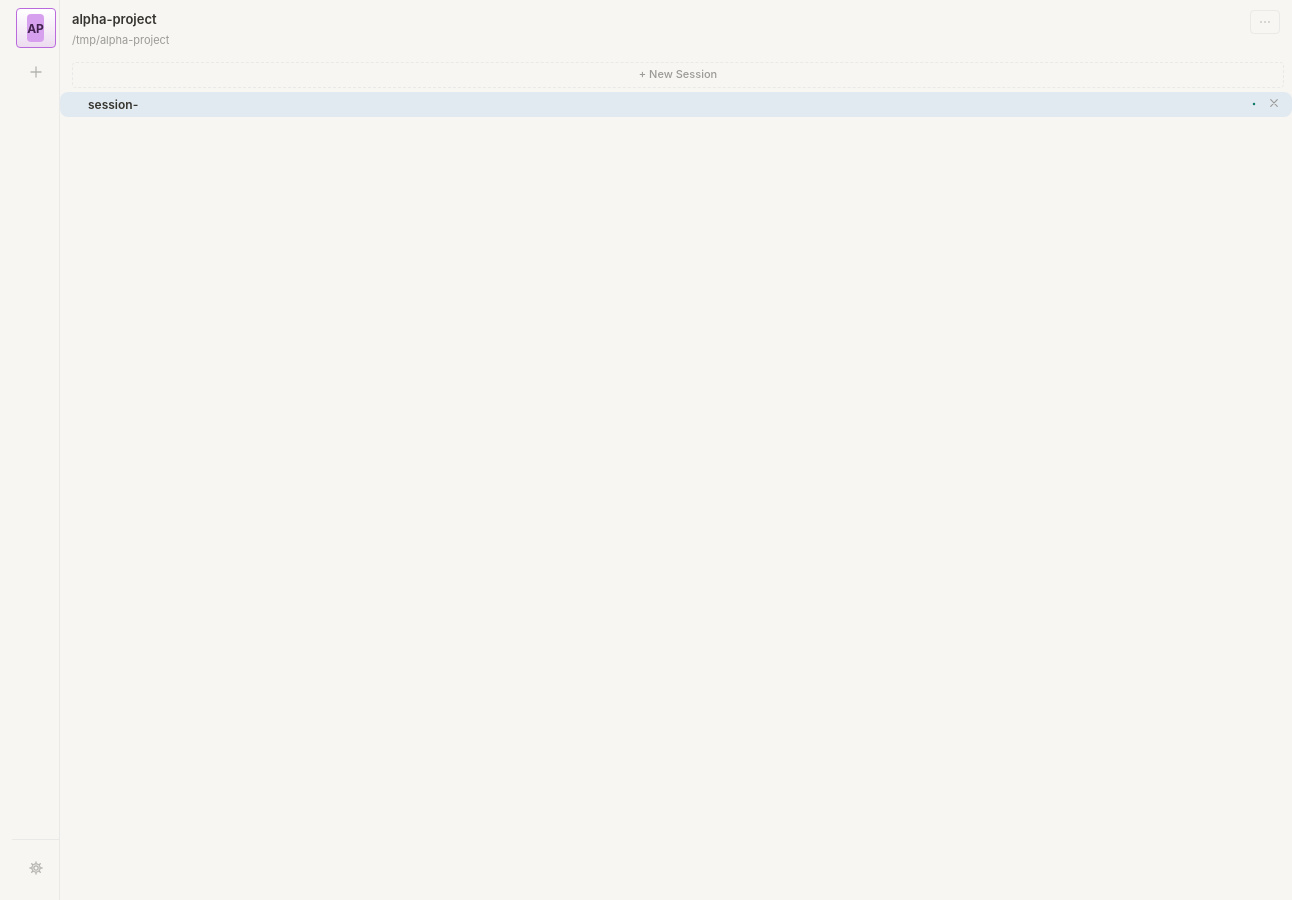
Scenario: IdeLeftPanel › enables workspace through the backend API and closes the menu after selection
Click the button with test id "project-menu-trigger": click(1265, 22) left=1250, top=10, right=1280, bottom=34
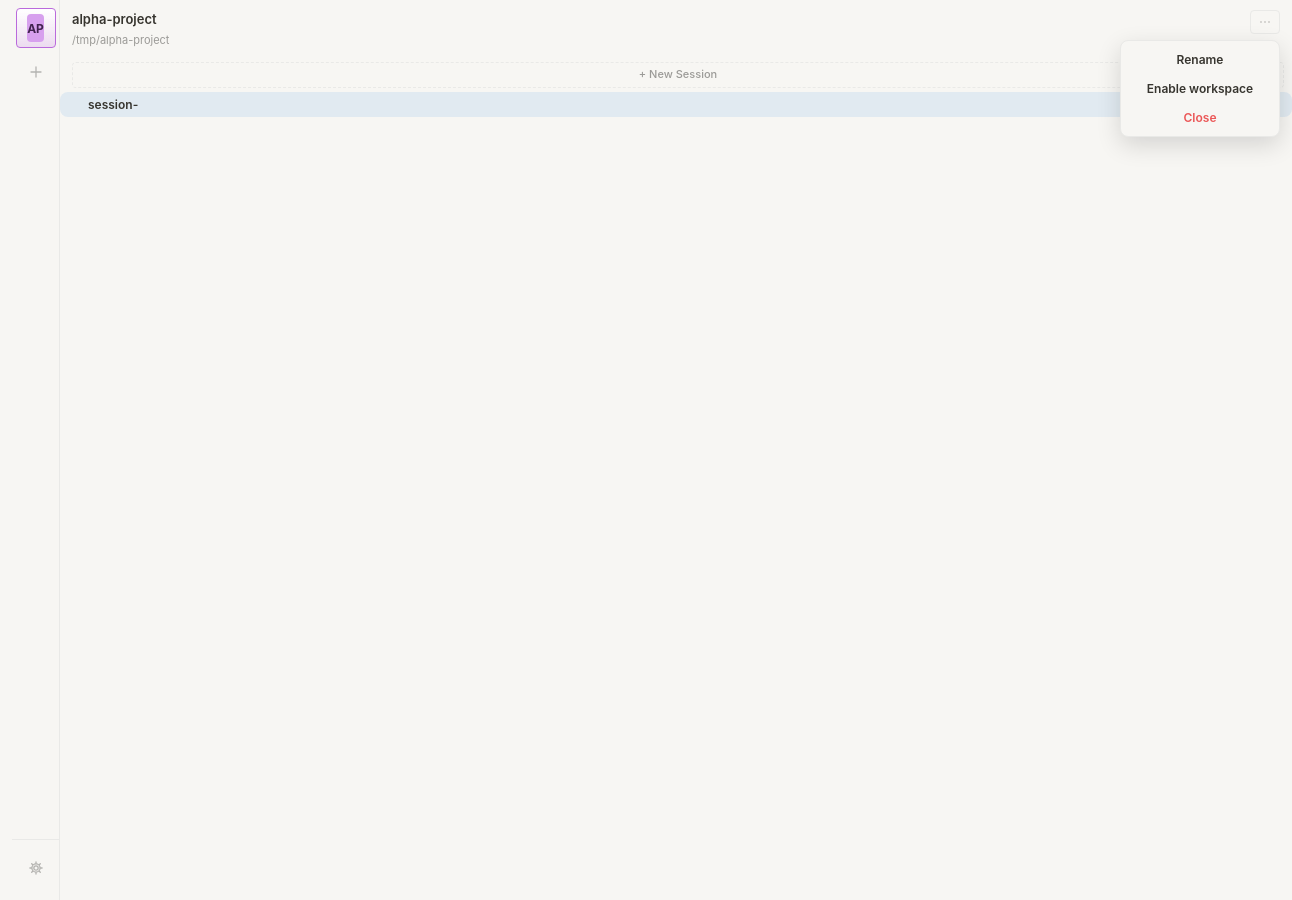
Click the button with test id "project-menu-workspace-toggle": click(1200, 88) left=1125, top=74, right=1275, bottom=103
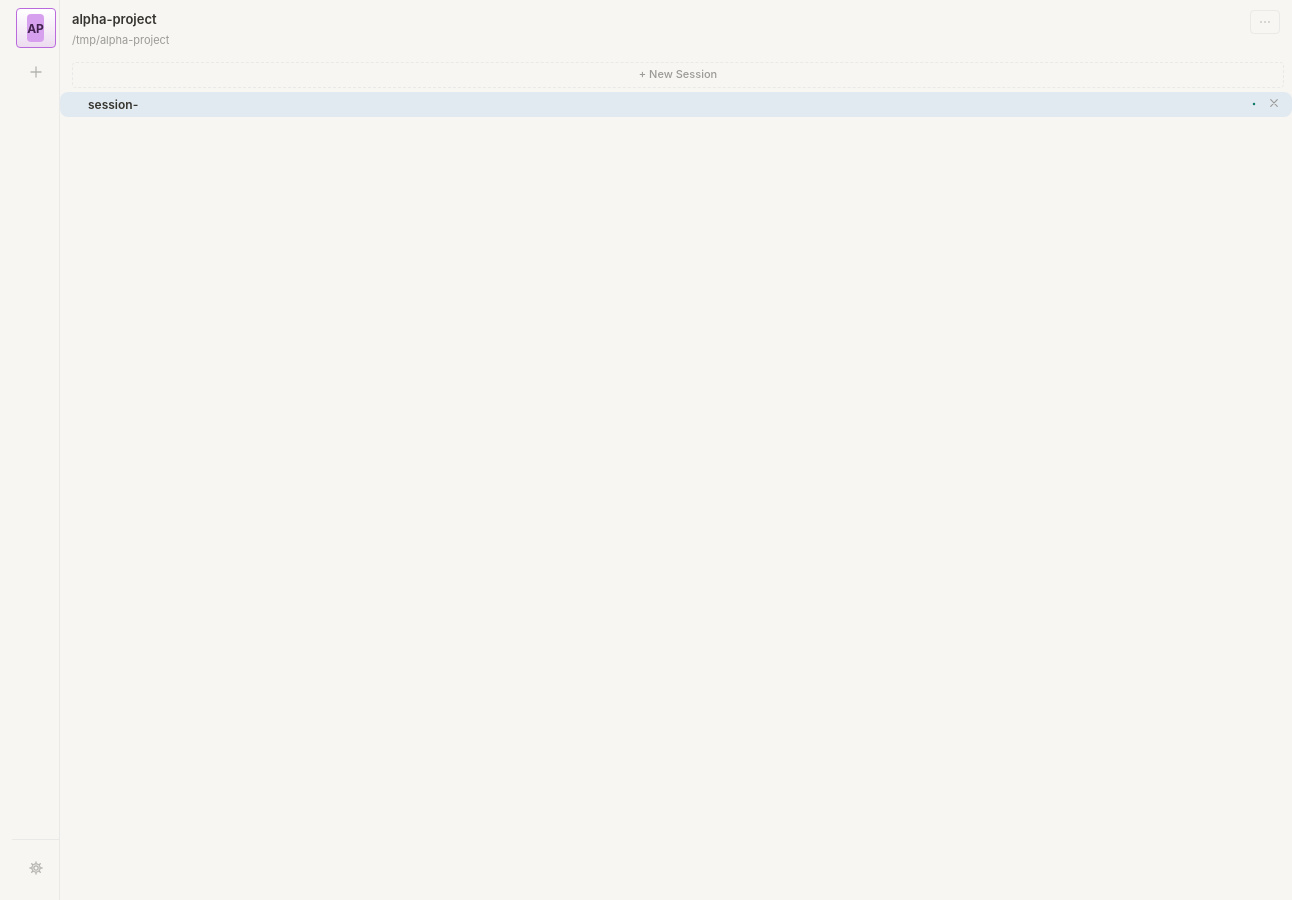
Check: the element with test id "project-menu" is gone
